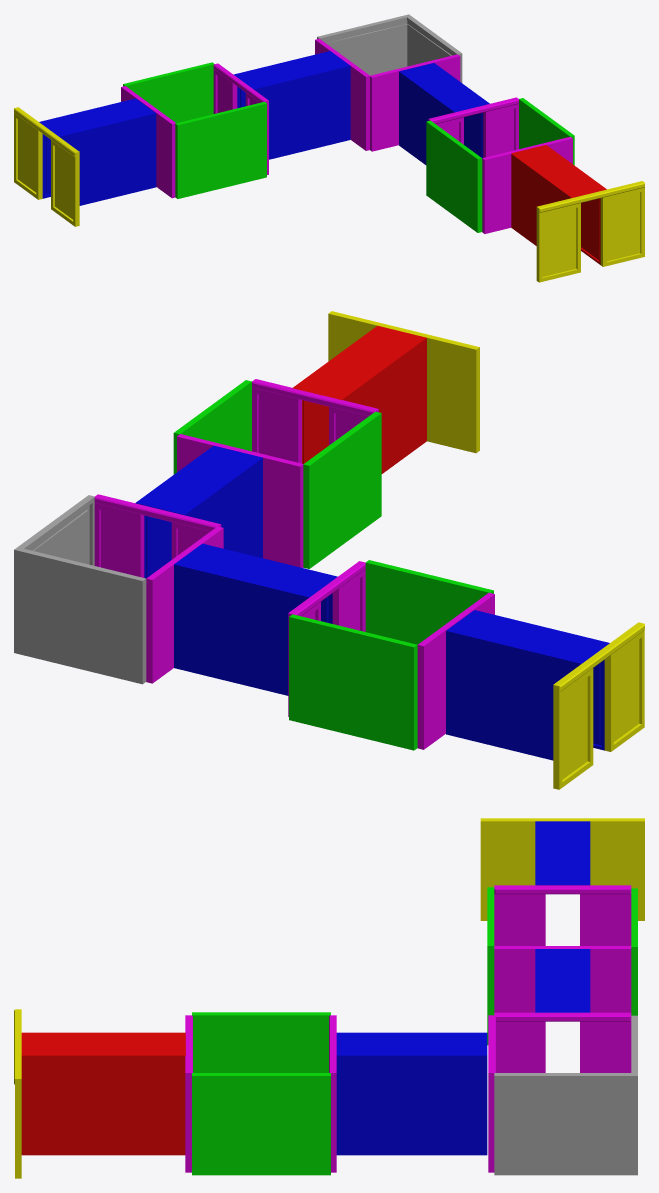
Rendered from 3d_livello_1B.fbx.
3 views of the same model, one above another, from view 1: azimuth 30°, elevation 25°; view 2: azimuth 150°, elevation 25°; view 3: azimuth 270°, elevation 25° (orthographic). The views are drawn at different scales.
Visible parts, largest first — view 1: corridoio_leggermente_più_corto3, corridoio_leggermente_più_corto2, porta, muro_4, corridoio, corridoio_leggermente_più_corto, muro_angolo1, porta2, muro_1, muro_3, porta_leggermente_più_picola, porta_leggermente_più_picola2 (+5 smaller); view 2: muro_angolo1, corridoio_leggermente_più_corto3, corridoio_leggermente_più_corto2, muro_3, corridoio, corridoio_leggermente_più_corto, porta2, muro_1, porta, muro_4, porta_leggermente_più_picola1, porta_leggermente_più_picola2 (+5 smaller); view 3: corridoio, corridoio_leggermente_più_corto, muro_angolo1, muro_2, porta2, muro_1, porta_leggermente_più_picola4, porta_leggermente_più_picola3, porta_leggermente_più_picola5, corridoio_leggermente_più_corto3, corridoio_leggermente_più_corto2, porta (+5 smaller).
Part boxes in pixels (x1=…): corridoio_leggermente_più_corto3: x1=39, y1=98, x2=156, y2=205; corridoio_leggermente_più_corto2: x1=233, y1=51, x2=350, y2=159; porta: x1=536, y1=181, x2=644, y2=282; muro_4: x1=175, y1=102, x2=266, y2=198; corridoio: x1=511, y1=145, x2=606, y2=264; corridoio_leggermente_più_corto: x1=399, y1=63, x2=489, y2=164; muro_angolo1: x1=317, y1=14, x2=462, y2=82; porta2: x1=14, y1=107, x2=79, y2=226; muro_1: x1=426, y1=120, x2=482, y2=232; muro_3: x1=123, y1=62, x2=214, y2=122; porta_leggermente_più_picola: x1=482, y1=137, x2=572, y2=233; porta_leggermente_più_picola2: x1=370, y1=54, x2=460, y2=151; muro_angolo1: x1=14, y1=495, x2=146, y2=684; corridoio_leggermente_più_corto3: x1=446, y1=610, x2=609, y2=760; corridoio_leggermente_più_corto2: x1=174, y1=543, x2=337, y2=695; muro_3: x1=289, y1=614, x2=417, y2=750; corridoio: x1=292, y1=325, x2=426, y2=473; corridoio_leggermente_più_corto: x1=135, y1=445, x2=262, y2=578; porta2: x1=553, y1=622, x2=644, y2=789; muro_1: x1=303, y1=411, x2=381, y2=568; porta: x1=328, y1=311, x2=479, y2=453; muro_4: x1=365, y1=560, x2=493, y2=644; porta_leggermente_più_picola1: x1=177, y1=434, x2=303, y2=567; porta_leggermente_più_picola2: x1=94, y1=494, x2=221, y2=577; corridoio: x1=21, y1=1032, x2=185, y2=1155; corridoio_leggermente_più_corto: x1=336, y1=1032, x2=487, y2=1155; muro_angolo1: x1=494, y1=1015, x2=637, y2=1175; muro_2: x1=192, y1=1073, x2=330, y2=1175; porta2: x1=480, y1=818, x2=644, y2=920; muro_1: x1=192, y1=1012, x2=330, y2=1072; porta_leggermente_più_picola4: x1=494, y1=885, x2=631, y2=945; porta_leggermente_più_picola3: x1=494, y1=1012, x2=631, y2=1072; porta_leggermente_più_picola5: x1=494, y1=946, x2=631, y2=1012; corridoio_leggermente_più_corto3: x1=535, y1=821, x2=590, y2=885; corridoio_leggermente_più_corto2: x1=535, y1=949, x2=590, y2=1012; porta: x1=14, y1=1009, x2=21, y2=1178.
Bounding box in the file's own units: 45.07 × 8.03 × 46.07.
